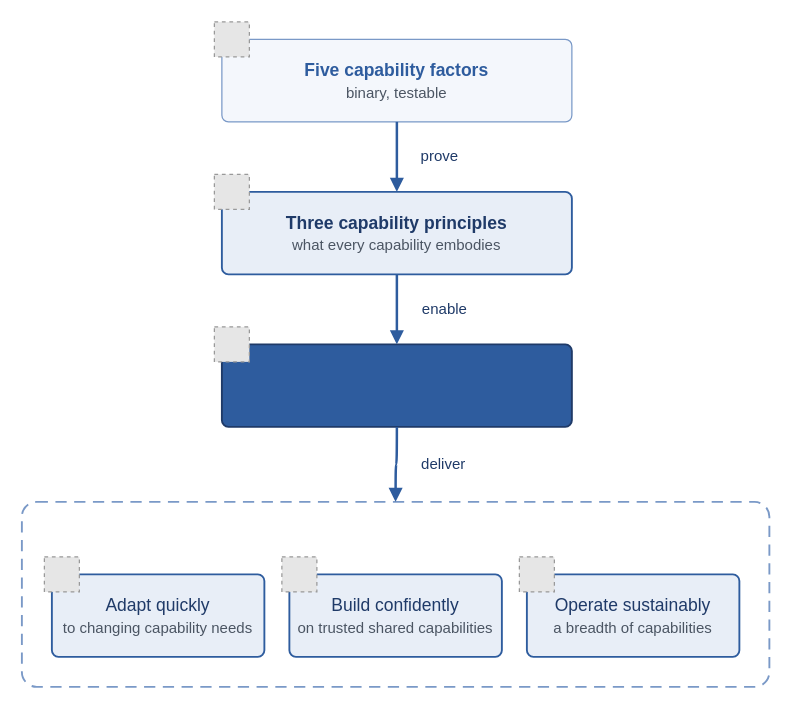
The diagram is 793 pixels wide and 710 high, and some of its shapes have lost their labels. Grey dashed boxes stand in for pictures. The box of each missing label's shape, as (x1, y1, x2, y2) in pixels:
Outcomes: (20, 500, 770, 687)
Six platform principles what the platform can commit to: (220, 343, 572, 427)
